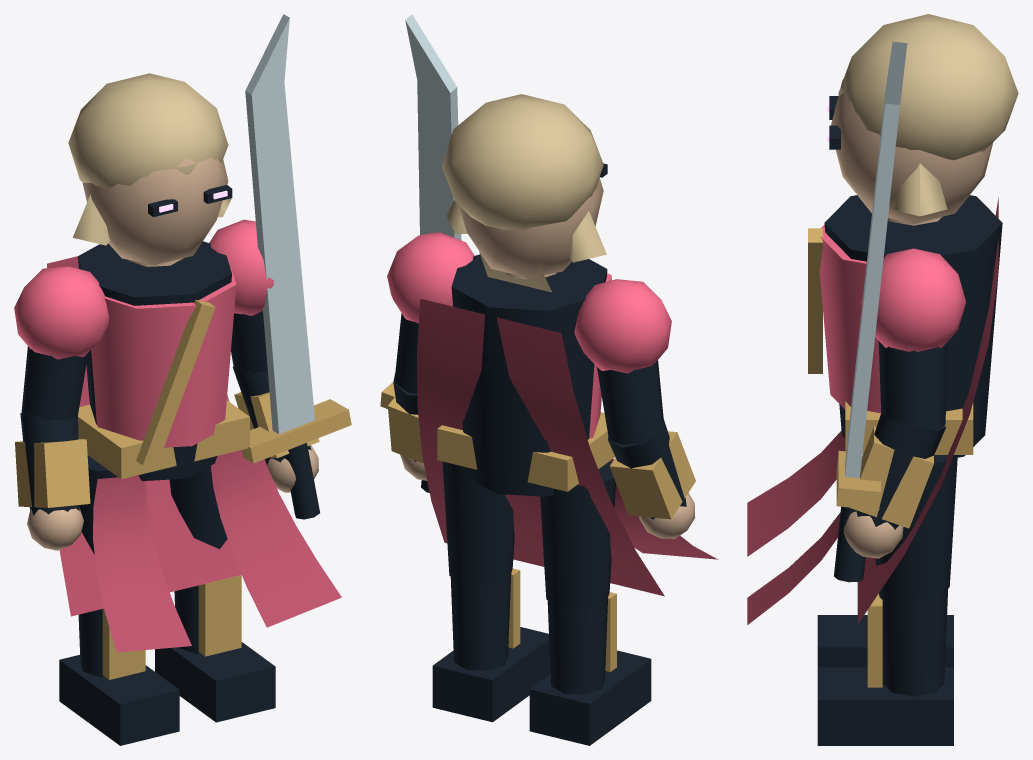
Rendered from bladedancer.glb.
3 views of the same model, side by side, from view 1: azimuth 30°, elevation 25°; view 2: azimuth 150°, elevation 25°; view 3: azimuth 270°, elevation 25° (orthographic). The views are drawn at different scales.
Parts seen in each view (by area): view 1: torso, head, blade, knee-1, shoulder--1, knee--1, cape, elbow--1, shoulder-1, weapon-katana, leg-1, elbow-1 (+3 smaller); view 2: head, torso, cape, knee--1, knee-1, shoulder--1, leg--1, leg-1, blade, shoulder-1, elbow--1, elbow-1 (+1 smaller); view 3: torso, head, knee-1, shoulder-1, blade, elbow-1, leg-1, cape, knee--1, weapon-katana, hand-1.
Boxes of the visible parts, left/top/right/bottom form: torso: left=78, top=241, right=341, bottom=652; head: left=68, top=73, right=232, bottom=265; blade: left=245, top=14, right=314, bottom=433; knee-1: left=155, top=575, right=275, bottom=722; shoulder--1: left=14, top=266, right=108, bottom=420; knee--1: left=59, top=608, right=179, bottom=745; cape: left=47, top=256, right=241, bottom=616; elbow--1: left=15, top=413, right=90, bottom=515; shoulder-1: left=209, top=219, right=273, bottom=373; weapon-katana: left=241, top=399, right=351, bottom=519; leg-1: left=169, top=455, right=227, bottom=549; elbow-1: left=232, top=366, right=319, bottom=464; head: left=442, top=94, right=607, bottom=292; torso: left=437, top=254, right=717, bottom=559; cape: left=417, top=298, right=664, bottom=596; knee--1: left=529, top=592, right=651, bottom=745; knee-1: left=432, top=568, right=550, bottom=722; shoulder--1: left=574, top=279, right=671, bottom=444; leg--1: left=540, top=461, right=615, bottom=609; leg-1: left=442, top=461, right=514, bottom=585; blade: left=405, top=14, right=461, bottom=240; shoulder-1: left=387, top=232, right=474, bottom=393; elbow--1: left=608, top=418, right=695, bottom=519; elbow-1: left=388, top=373, right=423, bottom=463; torso: left=747, top=195, right=1002, bottom=624; head: left=827, top=14, right=1018, bottom=224; knee-1: left=817, top=589, right=953, bottom=745; shoulder-1: left=861, top=248, right=965, bottom=430; blade: left=845, top=41, right=907, bottom=478; elbow-1: left=849, top=413, right=945, bottom=529; leg-1: left=875, top=455, right=957, bottom=601; cape: left=857, top=197, right=998, bottom=624; knee--1: left=817, top=615, right=953, bottom=667; weapon-katana: left=834, top=450, right=880, bottom=582; hand-1: left=843, top=511, right=903, bottom=558.
Size of the model in its own units: 0.8587 by 1.76 by 0.592.
